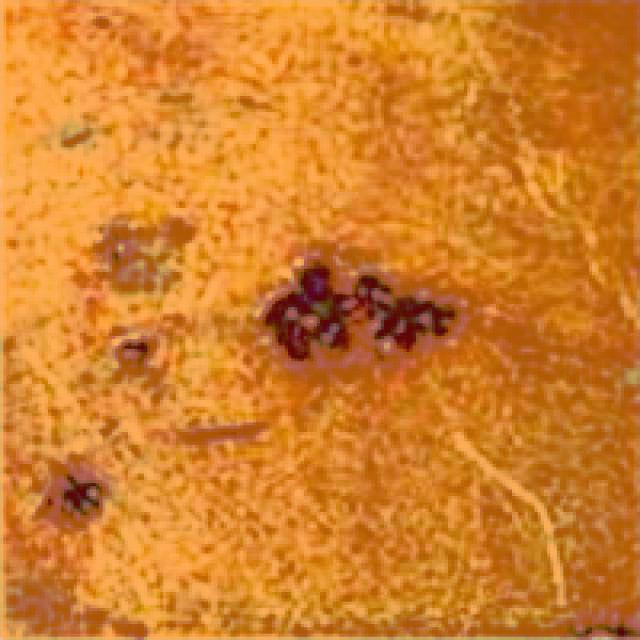Corrosion: (260, 257, 461, 364), (38, 470, 106, 528), (103, 223, 150, 288), (113, 333, 156, 375)
